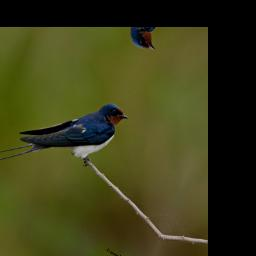Swallow: (0, 61, 131, 210)
